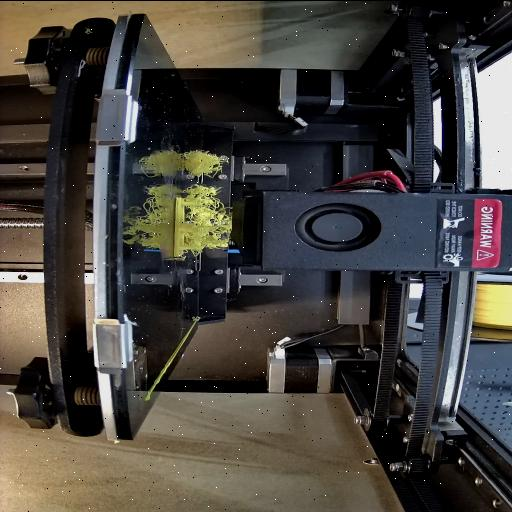spaghetti: (179, 150, 233, 250)
